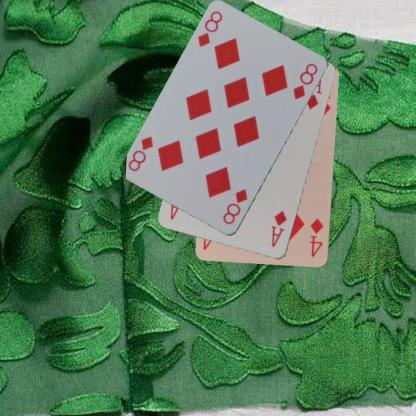4d: (307, 216, 325, 259)
8d: (220, 186, 249, 226), (195, 9, 224, 49)
Ad: (269, 208, 288, 249)
